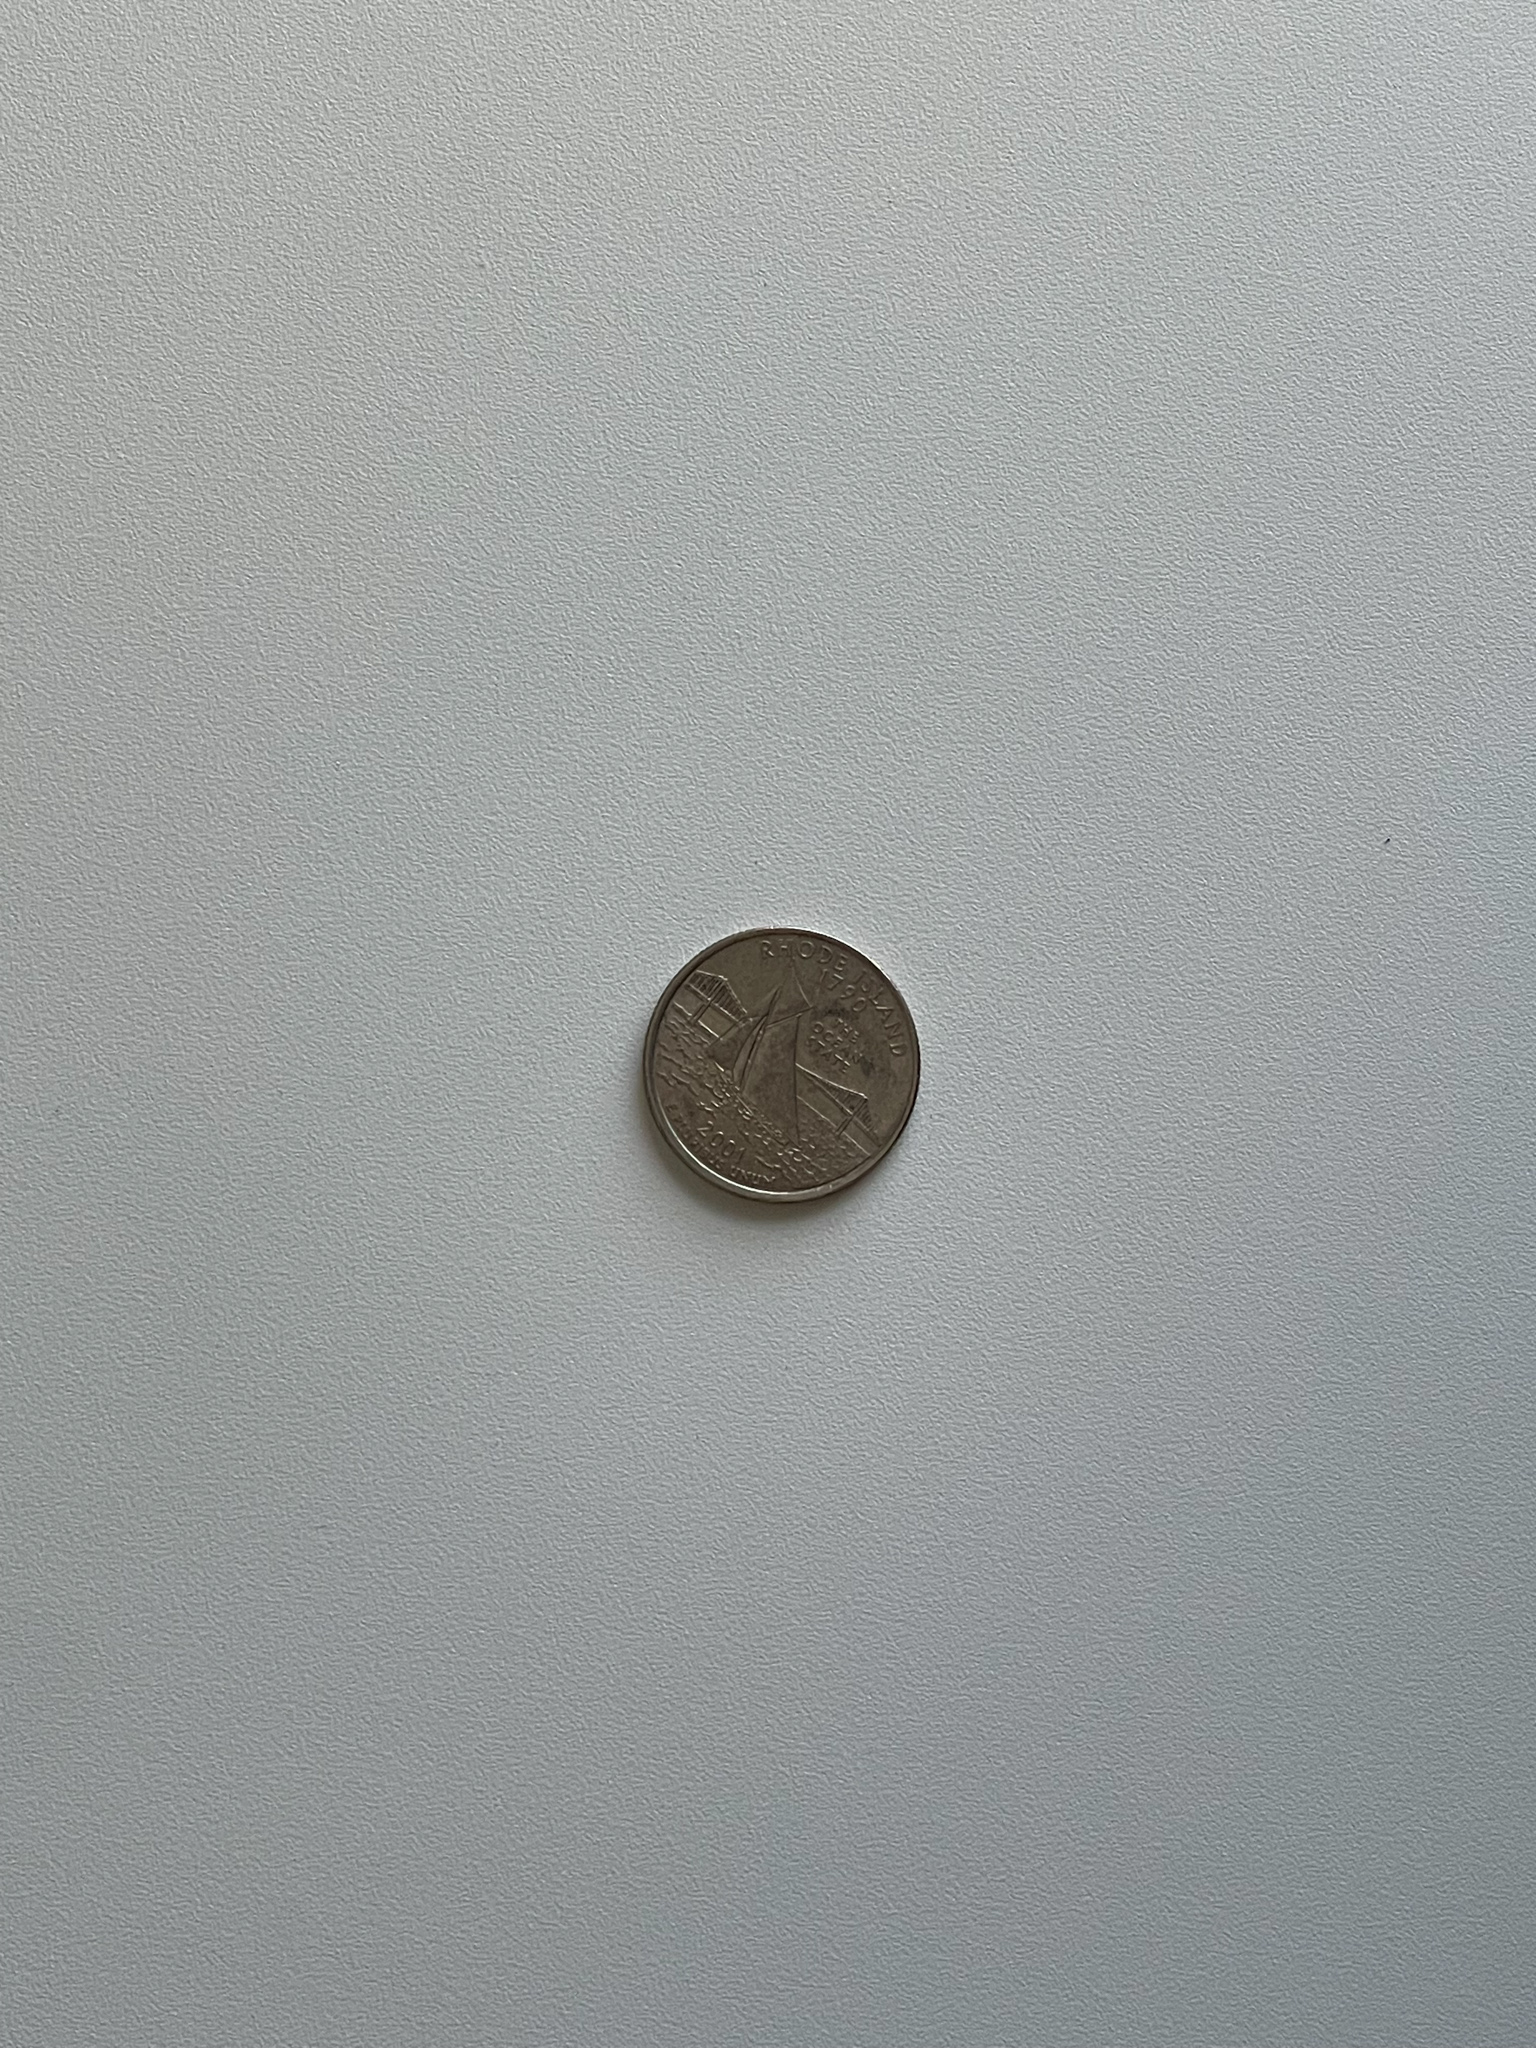quarter: (634, 914, 925, 1214)
